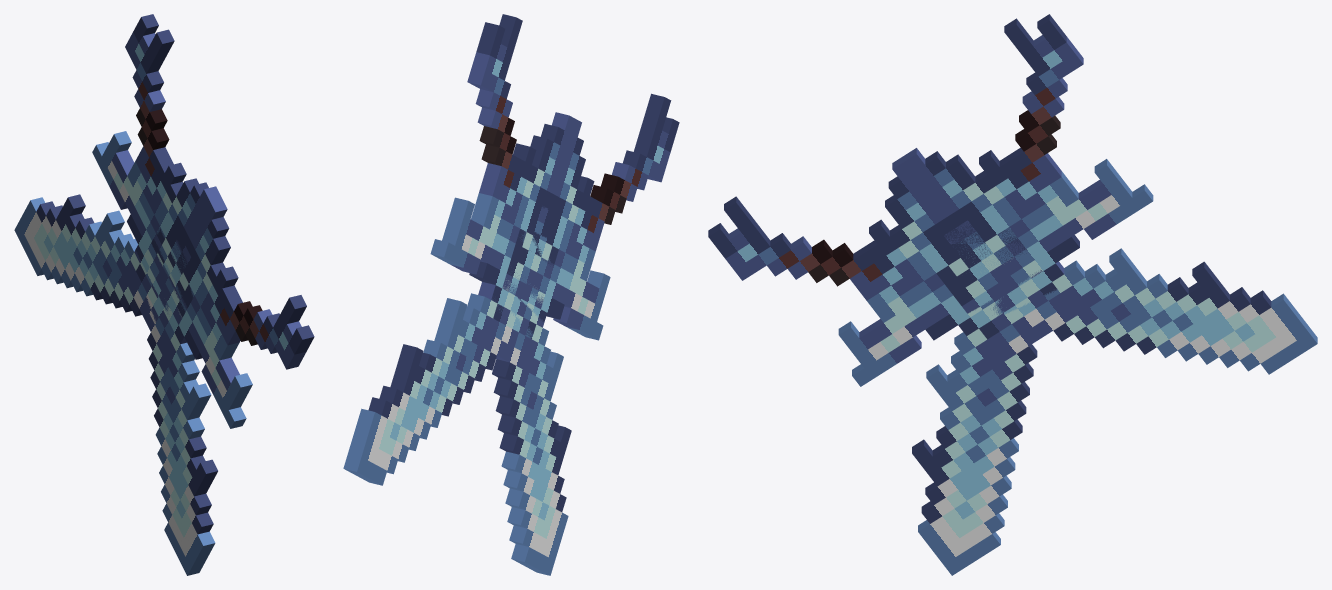
Rendered from boreal_blade.glb.
3 views of the same model, side by side, from view 1: azimuth 30°, elevation 25°; view 2: azimuth 150°, elevation 25°; view 3: azimuth 270°, elevation 25° (orthographic). The views are drawn at different scales.
Parts seen in each view (by area): view 1: off__Tool_L, main__Tool_R; view 2: off__Tool_L, main__Tool_R; view 3: off__Tool_L, main__Tool_R.
Boxes of the visible parts, <box> form: off__Tool_L: <box>92,14,221,575</box>; main__Tool_R: <box>14,194,314,428</box>; off__Tool_L: <box>430,14,575,575</box>; main__Tool_R: <box>343,93,679,485</box>; off__Tool_L: <box>904,14,1153,575</box>; main__Tool_R: <box>708,156,1317,386</box>.
Bounding box in the file's own units: 0.0531 × 2.19 × 2.18.
Materials: 1 (1 with a texture image).
